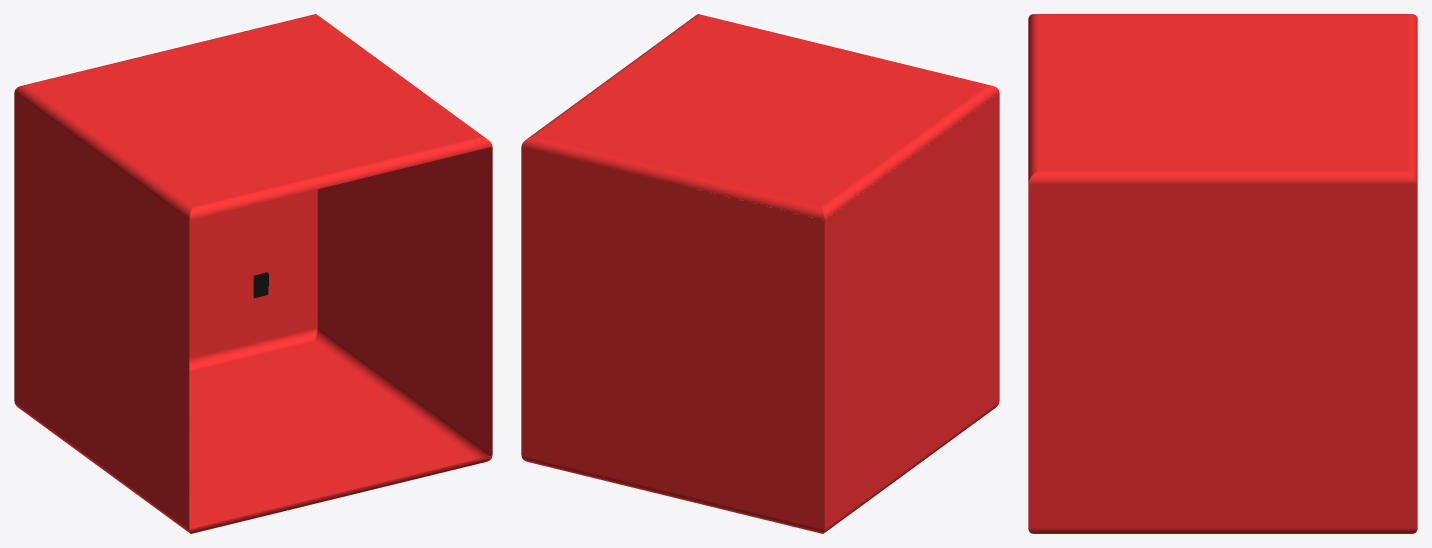
File: nftCard.glb
3 views of the same model, side by side, from view 1: azimuth 30°, elevation 25°; view 2: azimuth 150°, elevation 25°; view 3: azimuth 270°, elevation 25° (orthographic). The views are drawn at different scales.
Visible parts, largest first — view 1: Background; view 2: Background; view 3: Background.
Boxes of the visible parts, bbox=[...] form: Background: bbox=[14, 14, 492, 533]; Background: bbox=[521, 14, 999, 533]; Background: bbox=[1028, 14, 1417, 533].
Size of the model in its own units: 21.28 by 21.86 by 21.28.
